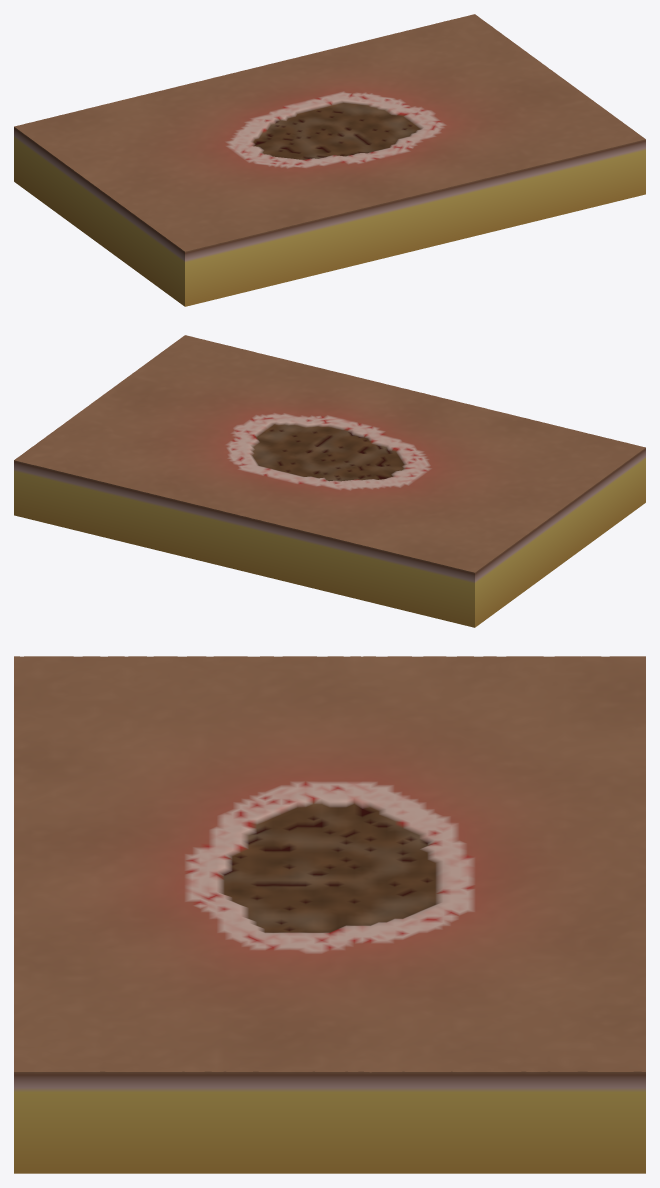
The model's file is care_brul3.glb.
The picture shows the model from 3 angles, top to bottom: view 1: azimuth 30°, elevation 25°; view 2: azimuth 150°, elevation 25°; view 3: azimuth 270°, elevation 25°; orthographic projection. The views are drawn at different scales.
Visible parts, largest first — view 1: care_brul3; view 2: care_brul3; view 3: care_brul3.
Part boxes in pixels (bbox=[...]): care_brul3: bbox=[14, 14, 645, 306]; care_brul3: bbox=[14, 335, 645, 627]; care_brul3: bbox=[14, 656, 645, 1173].
Size of the model in its own units: 14 by 1.61 by 9.
